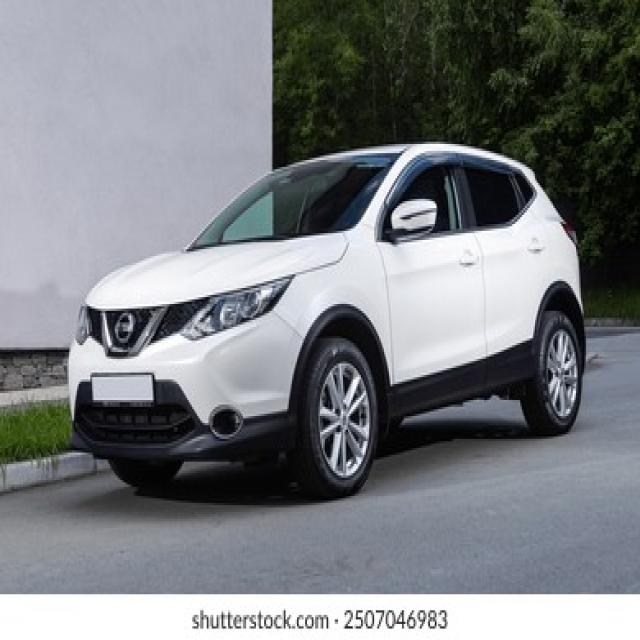nissan: (109, 308, 137, 346)
